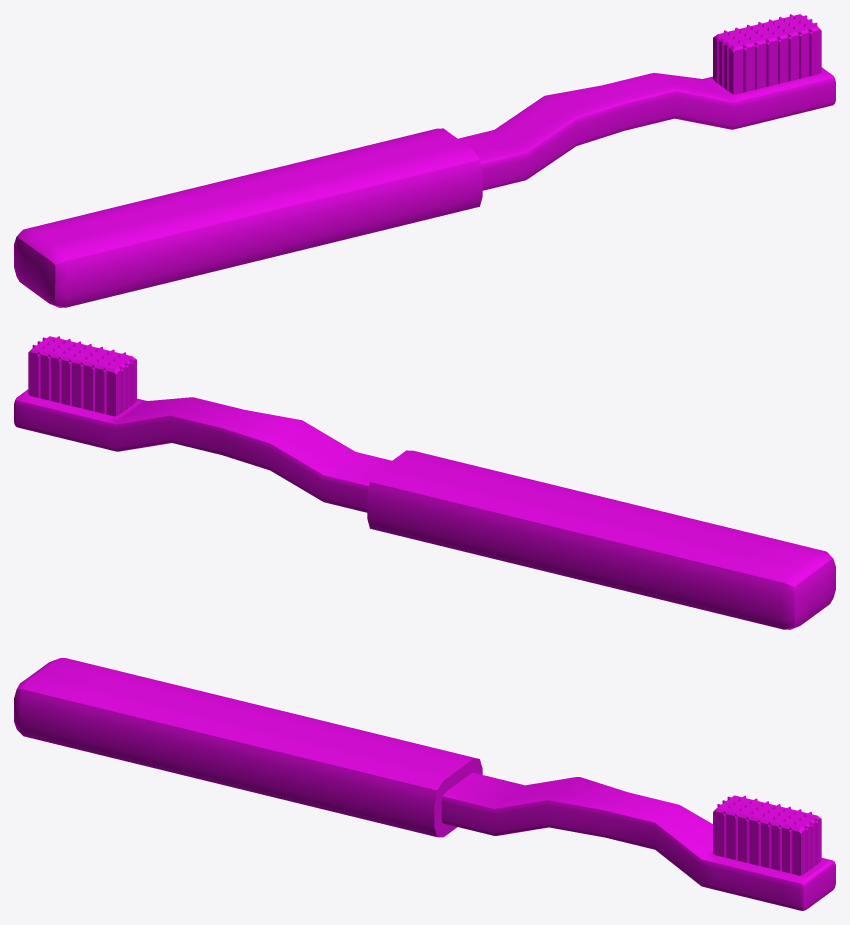
The model's file is Tipo4_Mesh.fbx.
3 views of the same model, one above another, from view 1: azimuth 30°, elevation 25°; view 2: azimuth 150°, elevation 25°; view 3: azimuth 330°, elevation 25° (orthographic).
Visible parts, largest first — view 1: Escova_Tipo4_1; view 2: Escova_Tipo4_1; view 3: Escova_Tipo4_1.
Part boxes in pixels (bbox=[...]): Escova_Tipo4_1: bbox=[14, 14, 835, 307]; Escova_Tipo4_1: bbox=[14, 336, 835, 629]; Escova_Tipo4_1: bbox=[14, 658, 835, 910].
Size of the model in its own units: 1.34 by 0.15 by 0.1429.
